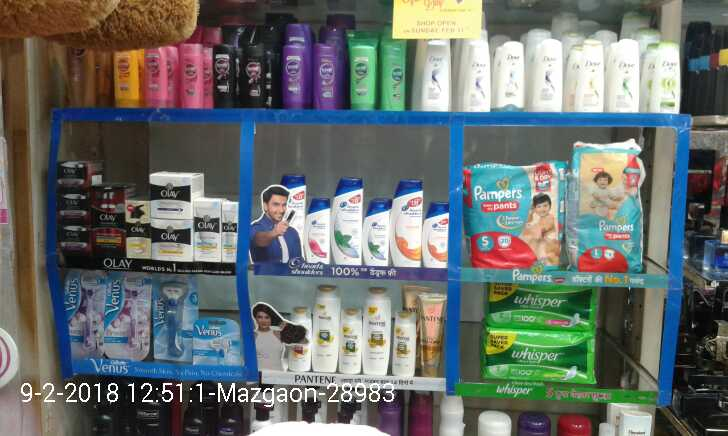venus: (106, 267, 153, 358), (153, 267, 192, 364), (64, 271, 106, 358), (192, 316, 239, 365)
